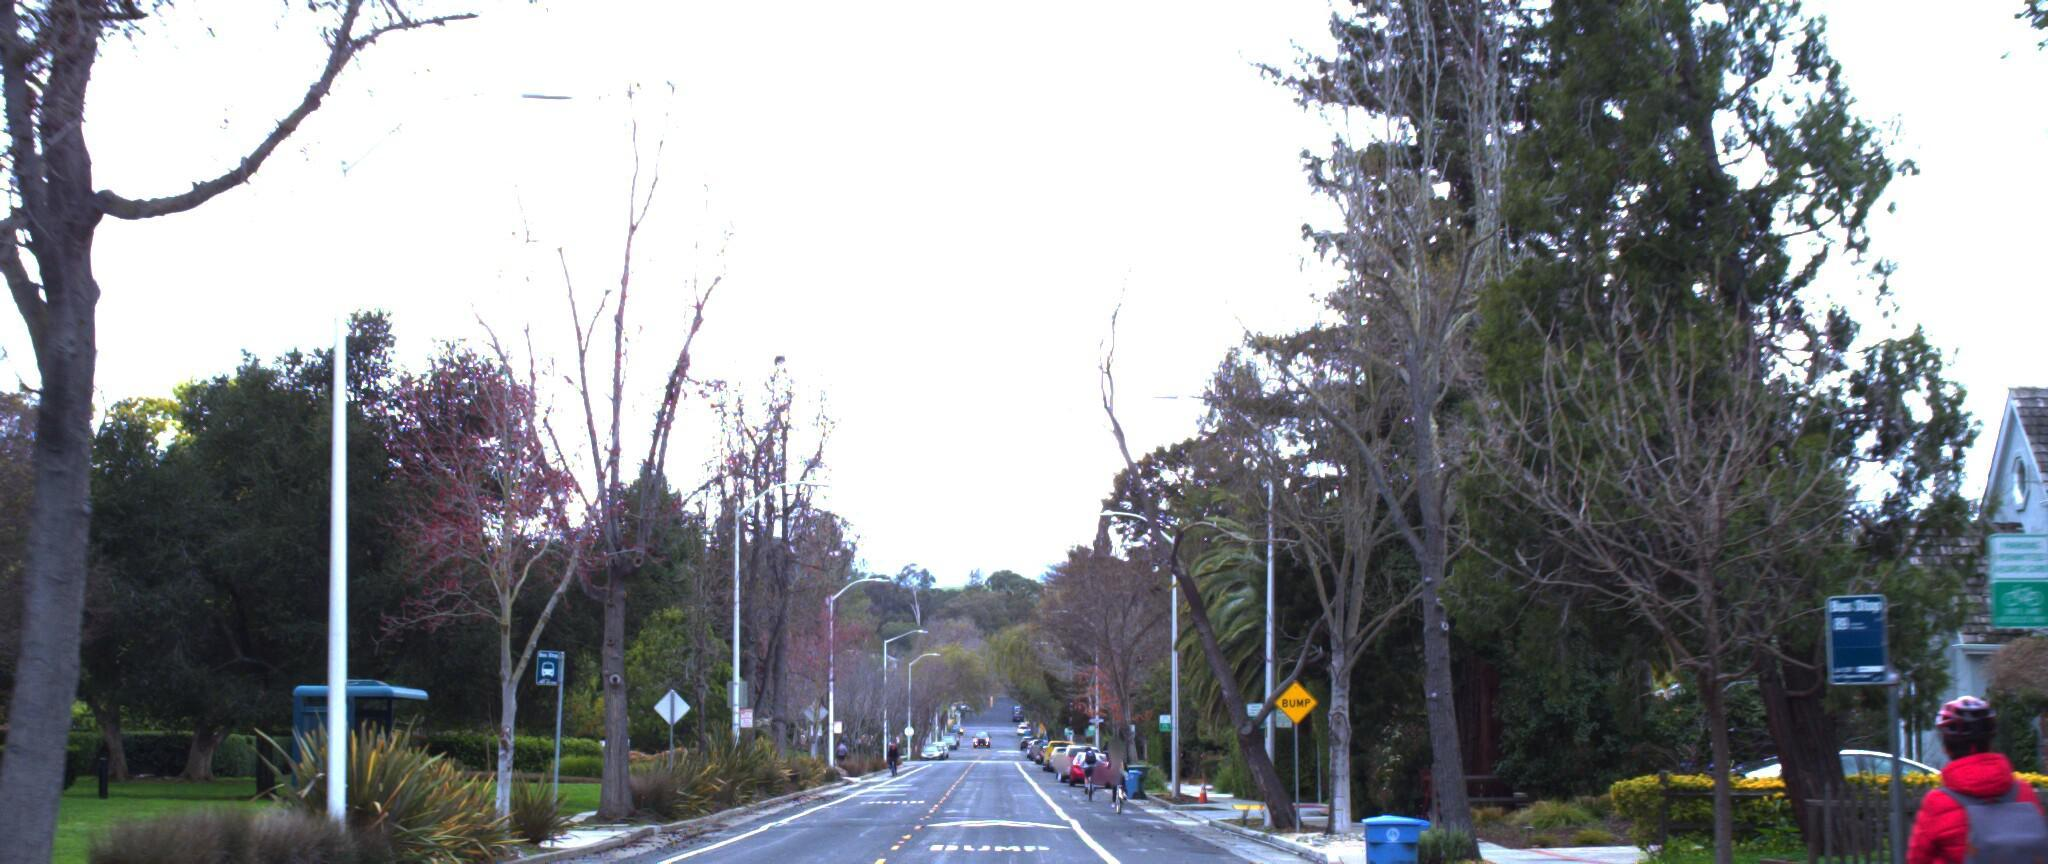bicycle: (1774, 643, 2048, 864)
